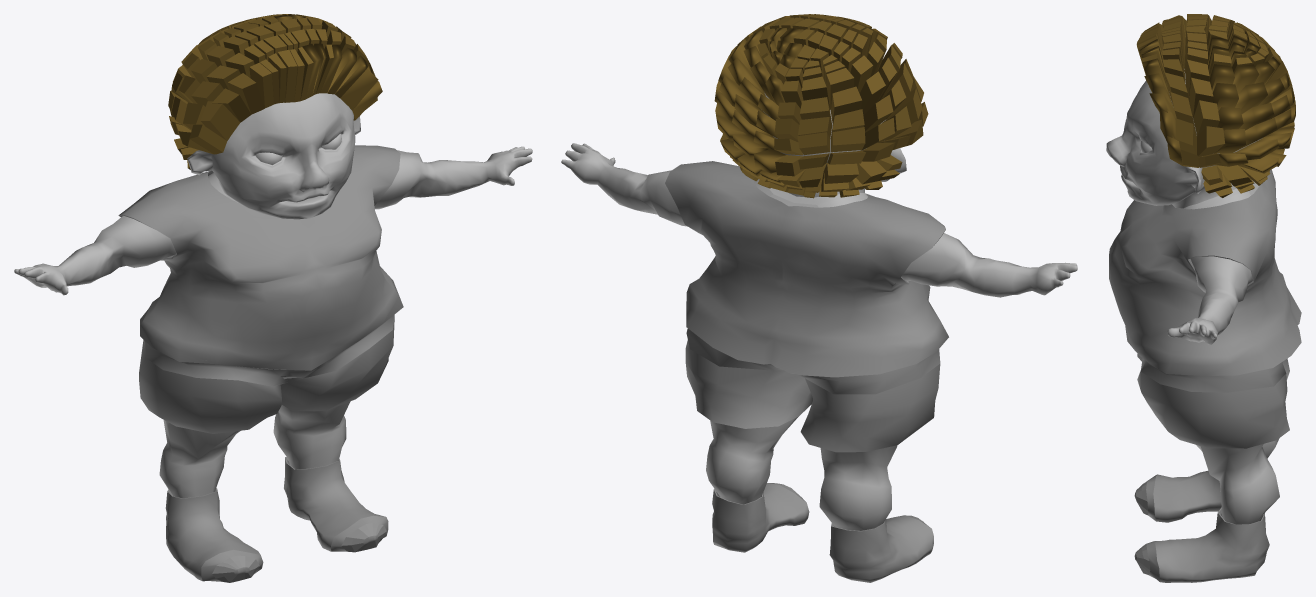
The model's file is LittleBoy.fbx.
3 renders of one model, left to right at view 1: azimuth 30°, elevation 25°; view 2: azimuth 150°, elevation 25°; view 3: azimuth 270°, elevation 25°, orthographic.
Parts seen in each view (by area): view 1: polySurface15, Hair:polySurface1, polySurface19, polySurface7, polySurface29, polySurface28, polySurface30; view 2: polySurface15, Hair:polySurface1, polySurface19, polySurface30, polySurface28, polySurface29, polySurface7; view 3: polySurface15, Hair:polySurface1, polySurface19, polySurface29, polySurface7, polySurface30, polySurface28.
Boxes of the visible parts, x1,y1,x2,y2 form: polySurface15: (118, 145, 403, 370); Hair:polySurface1: (168, 14, 382, 169); polySurface19: (139, 315, 394, 433); polySurface7: (187, 93, 360, 219); polySurface29: (165, 457, 388, 582); polySurface28: (14, 146, 532, 295); polySurface30: (159, 401, 350, 498); polySurface15: (665, 161, 948, 377); Hair:polySurface1: (714, 14, 928, 198); polySurface19: (685, 328, 940, 452); polySurface30: (706, 416, 897, 530); polySurface28: (561, 143, 1077, 297); polySurface29: (712, 483, 933, 582); polySurface7: (754, 93, 906, 207); polySurface15: (1109, 169, 1301, 375); Hair:polySurface1: (1136, 14, 1295, 197); polySurface19: (1137, 353, 1289, 448); polySurface29: (1134, 470, 1269, 582); polySurface7: (1106, 69, 1261, 209); polySurface30: (1196, 438, 1279, 524); polySurface28: (1167, 256, 1252, 344).
Size of the model in its own units: 46.14 by 45.05 by 15.66.
